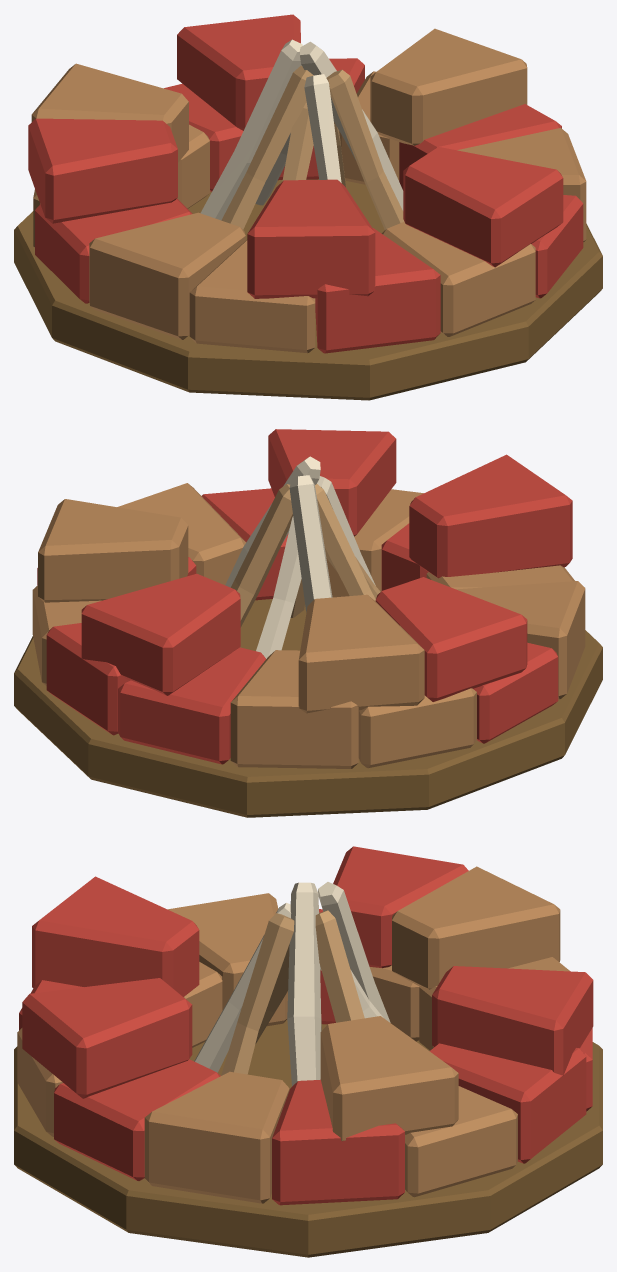
The model's file is bonfire_a.gltf.
The picture shows the model from 3 angles, top to bottom: view 1: azimuth 30°, elevation 25°; view 2: azimuth 150°, elevation 25°; view 3: azimuth 270°, elevation 25°; orthographic projection. The views are drawn at different scales.
Visible parts, largest first — view 1: bonfire_a001; view 2: bonfire_a001; view 3: bonfire_a001.
Boxes of the visible parts, x1,y1,x2,y2 form: bonfire_a001: (14, 14, 602, 400); bonfire_a001: (14, 429, 602, 817); bonfire_a001: (14, 846, 602, 1257).
Size of the model in its own units: 1.28 by 0.5652 by 1.22.
1 material, 1 textured.
